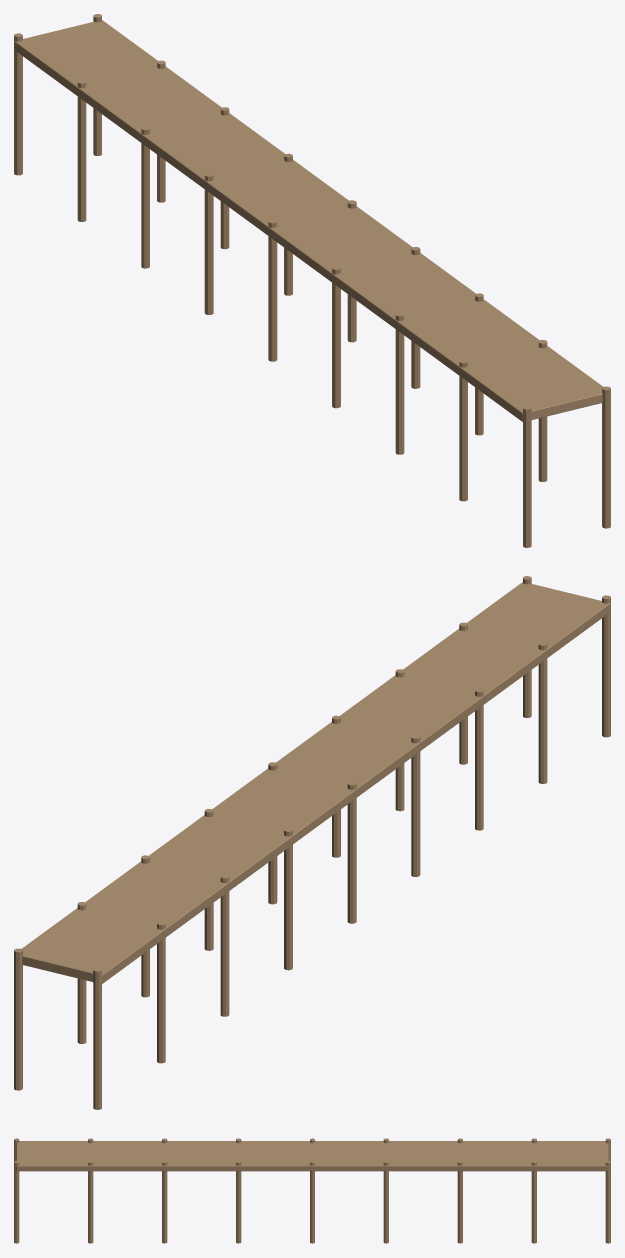
The model's file is harbour_pier.glb.
The picture shows the model from 3 angles, top to bottom: view 1: azimuth 30°, elevation 25°; view 2: azimuth 150°, elevation 25°; view 3: azimuth 270°, elevation 25°; orthographic projection. The views are drawn at different scales.
Visible parts, largest first — view 1: harbour_pier; view 2: harbour_pier; view 3: harbour_pier.
Part boxes in pixels (x1,y1,x2,y2): harbour_pier: (14,14,610,547); harbour_pier: (14,576,610,1109); harbour_pier: (14,1138,610,1243).
Size of the model in its own units: 4 by 6 by 40.36.
